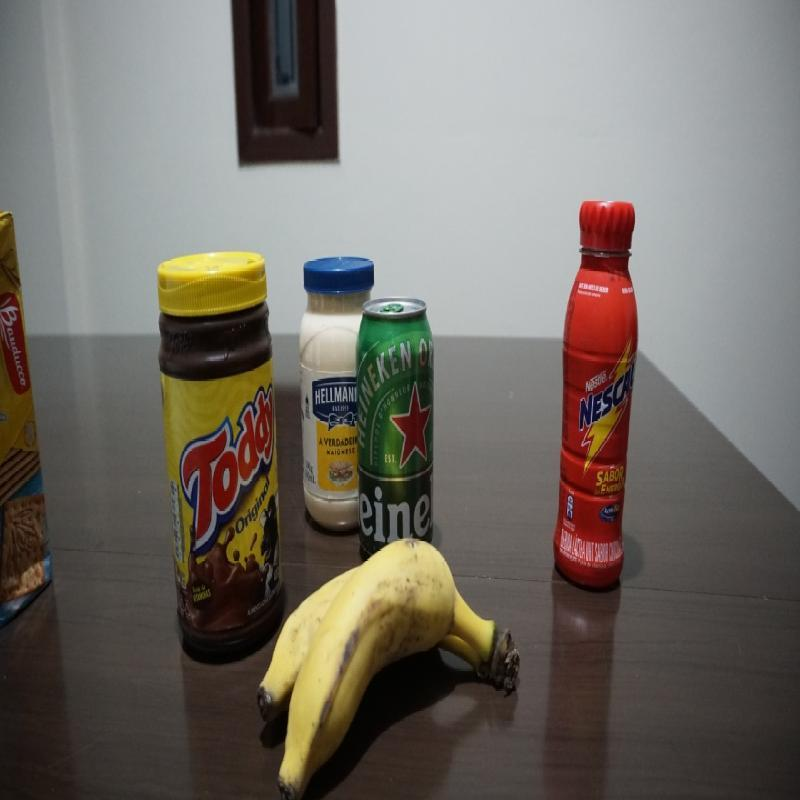Banana: (257, 535, 518, 794)
Beer can: (356, 295, 437, 564)
Chocolate Milk: (552, 197, 641, 594)
Chocolate Powder: (153, 246, 288, 658)
Cracker: (2, 201, 56, 633)
Mayonnaise: (297, 247, 375, 536)
